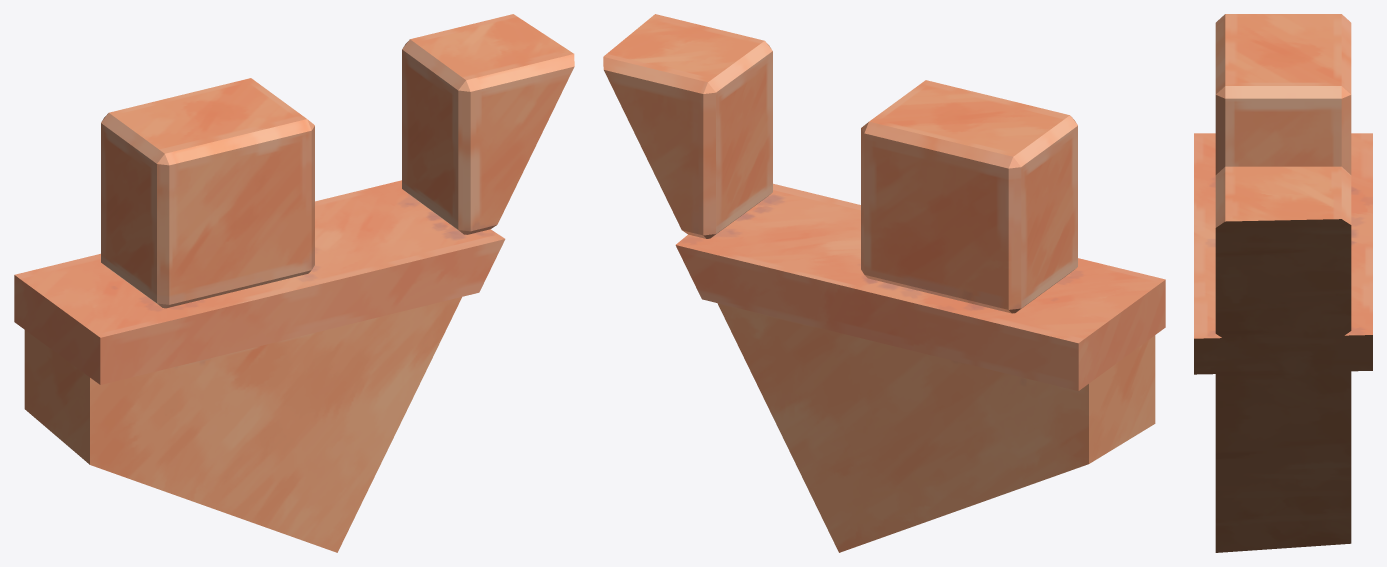
The model's file is parapet_crenel_s02.fbx.
The picture shows the model from 3 angles, left to right: view 1: azimuth 30°, elevation 25°; view 2: azimuth 150°, elevation 25°; view 3: azimuth 270°, elevation 25°; orthographic projection. The views are drawn at different scales.
Visible parts, largest first — view 1: parapet_crenel_s02; view 2: parapet_crenel_s02; view 3: parapet_crenel_s02.
Part boxes in pixels (x1,y1,x2,y2): parapet_crenel_s02: (14, 14, 574, 552); parapet_crenel_s02: (603, 14, 1165, 552); parapet_crenel_s02: (1194, 14, 1372, 552).
Bounding box in the file's own units: 4.33 × 3.7 × 1.32.
